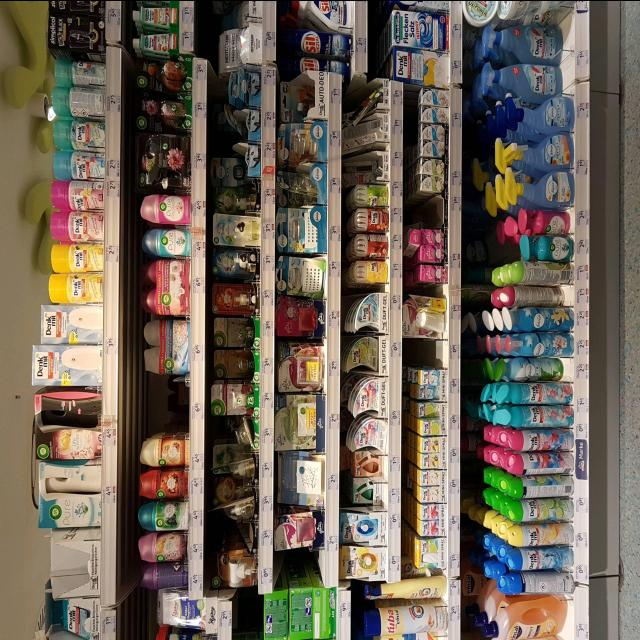empty_space: (135, 381, 185, 431), (278, 551, 322, 577), (407, 197, 441, 220), (408, 340, 441, 360)
